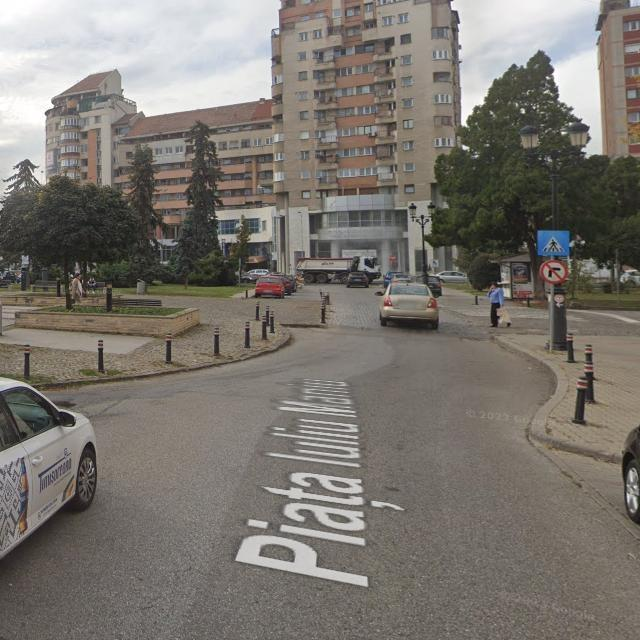info_crosswalk: (537, 230, 570, 257)
